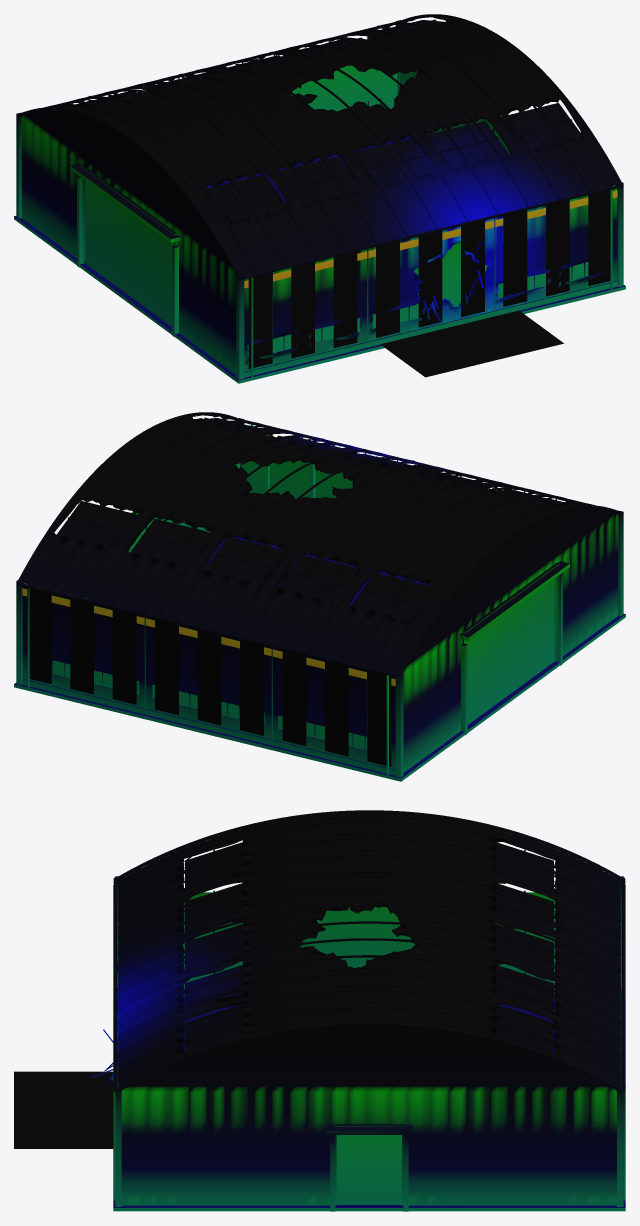
The model's file is hangar_damaged.glb.
3 renders of one model, top to bottom at view 1: azimuth 30°, elevation 25°; view 2: azimuth 150°, elevation 25°; view 3: azimuth 270°, elevation 25°, orthographic. The views are drawn at different scales.
Parts seen in each view (by area): view 1: lod0; view 2: lod0; view 3: lod0.
Part boxes in pixels (bbox=[...]): lod0: bbox=[14, 14, 625, 383]; lod0: bbox=[14, 412, 625, 781]; lod0: bbox=[14, 810, 625, 1211].
Size of what is drawn, in the model's own units: 40.2 by 15.93 by 46.83.
